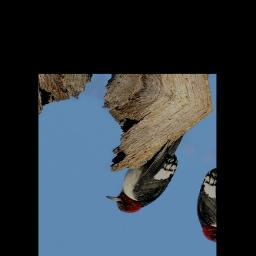Woodpecker: (102, 119, 190, 222)
